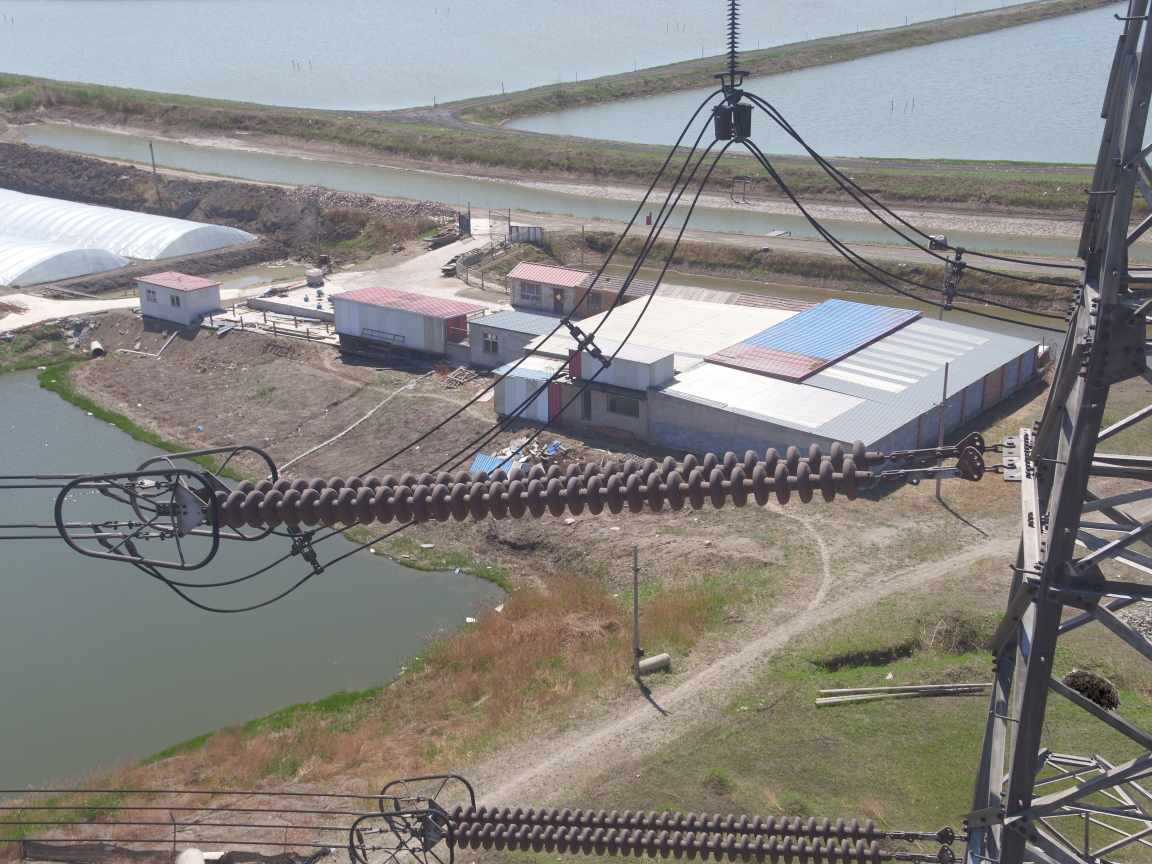nest: (1061, 664, 1124, 715)
